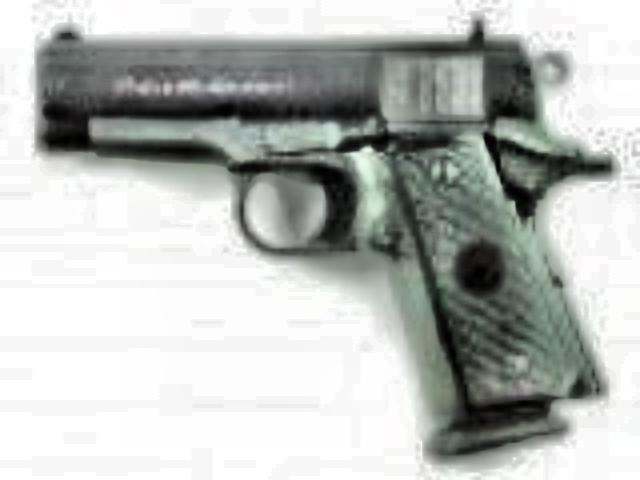pistol: (28, 16, 616, 460)
